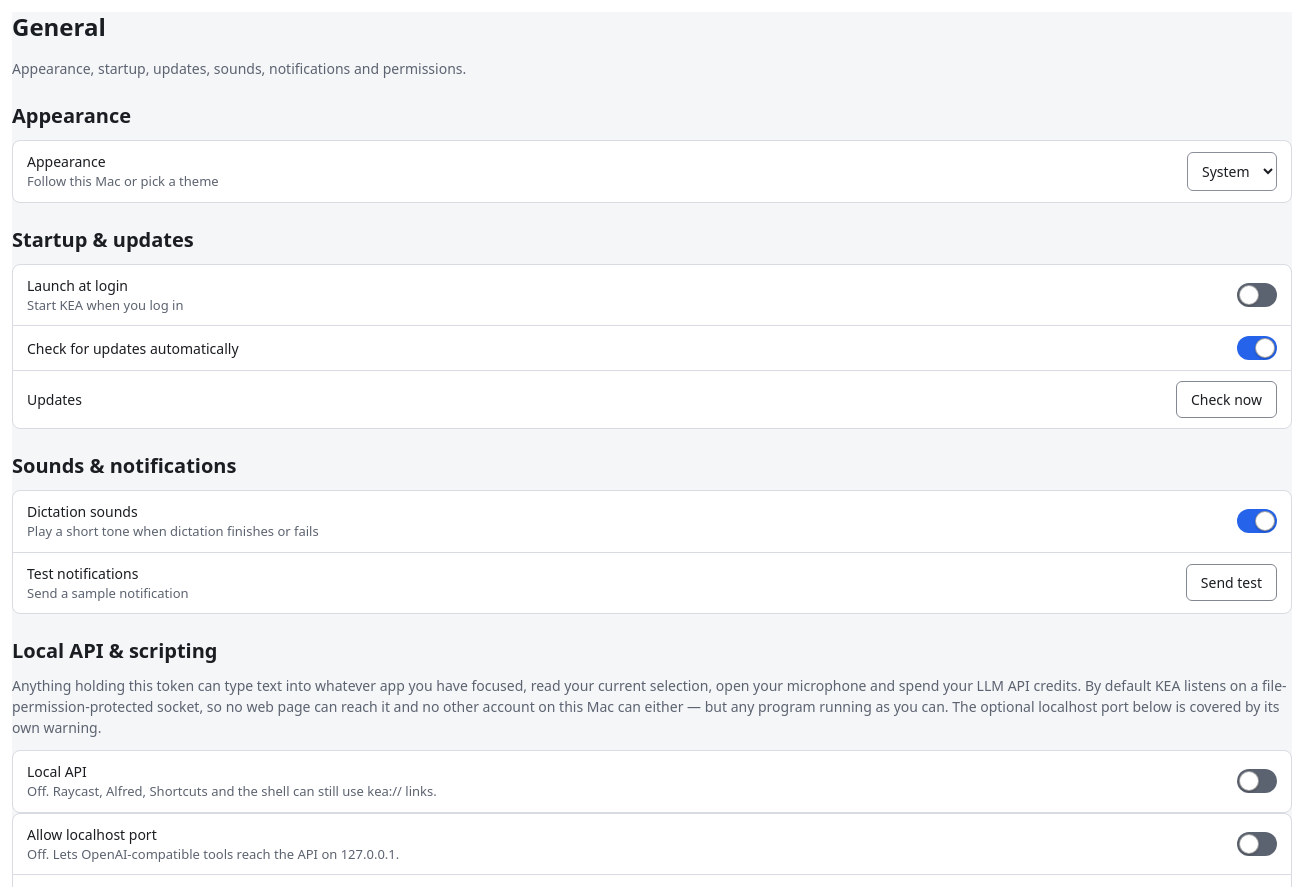
Test: GeneralPage › shows the bind conflict inline and leaves the port off
Click the switch named "Allow localhost port".
click(1257, 844)  # box 1237,832 -> 1277,856
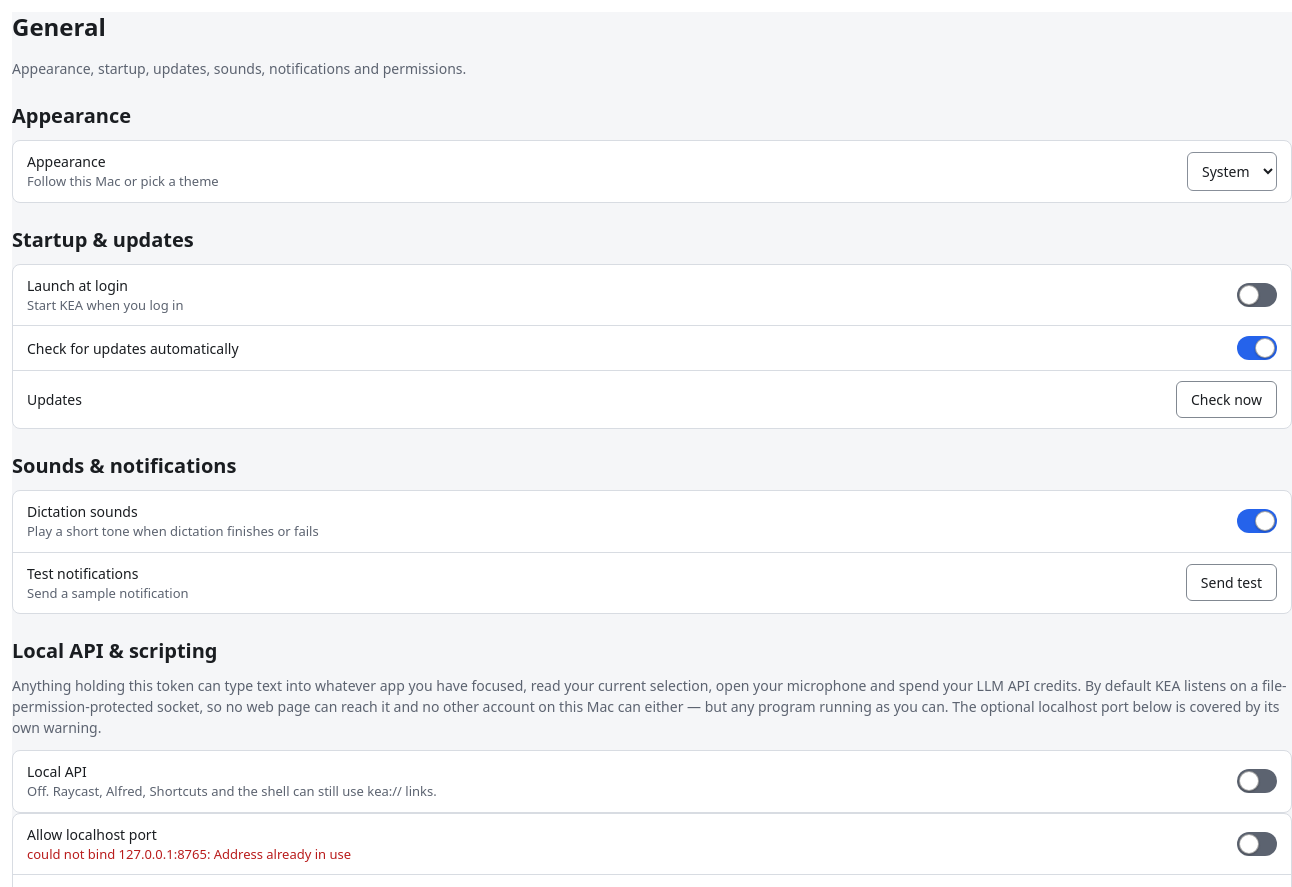
Result: the text "could not bind 127.0.0.1:8765: Address already in use" is shown at 27,845 -> 351,864
